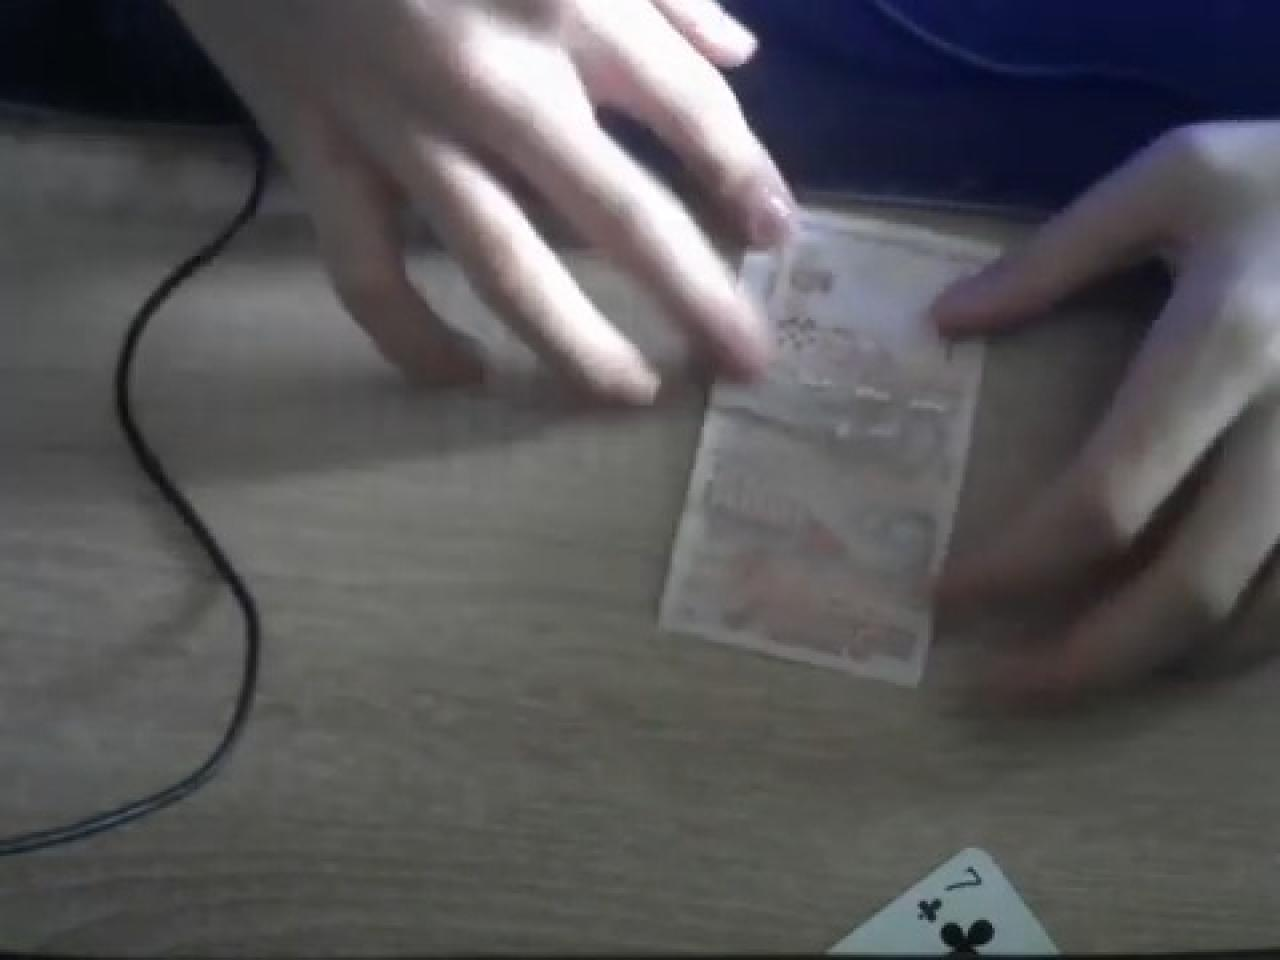5leva: (656, 198, 1202, 696)
